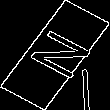N_SE: (17, 25, 93, 85)
